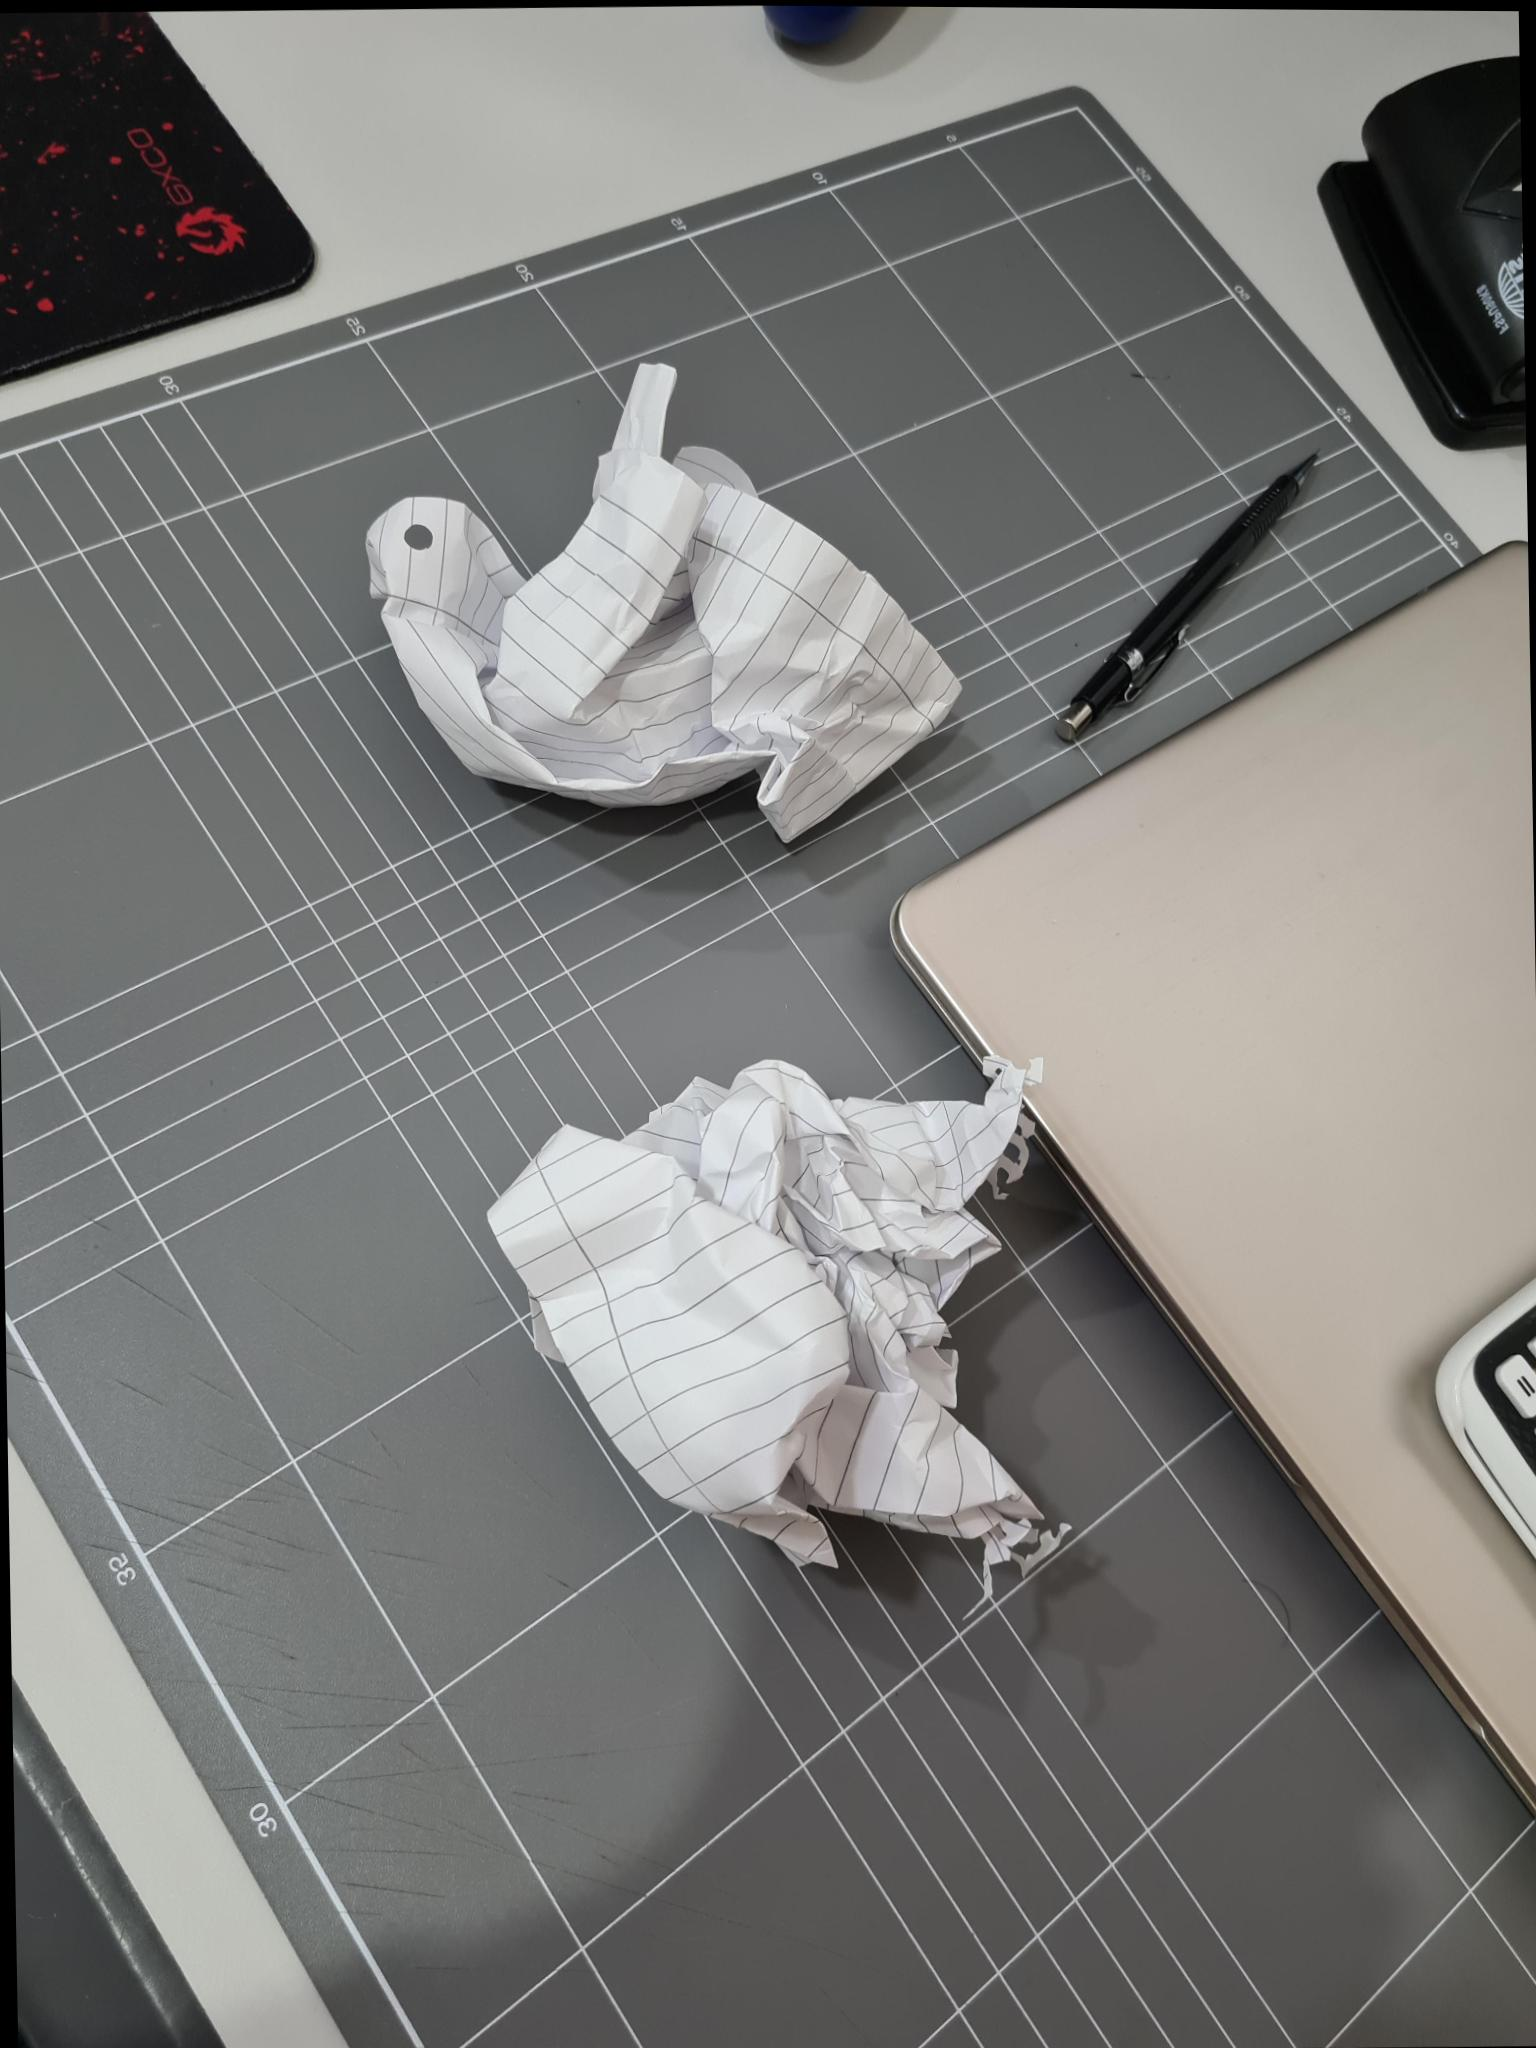paper: (366, 361, 958, 840), (490, 1059, 1046, 1564)
